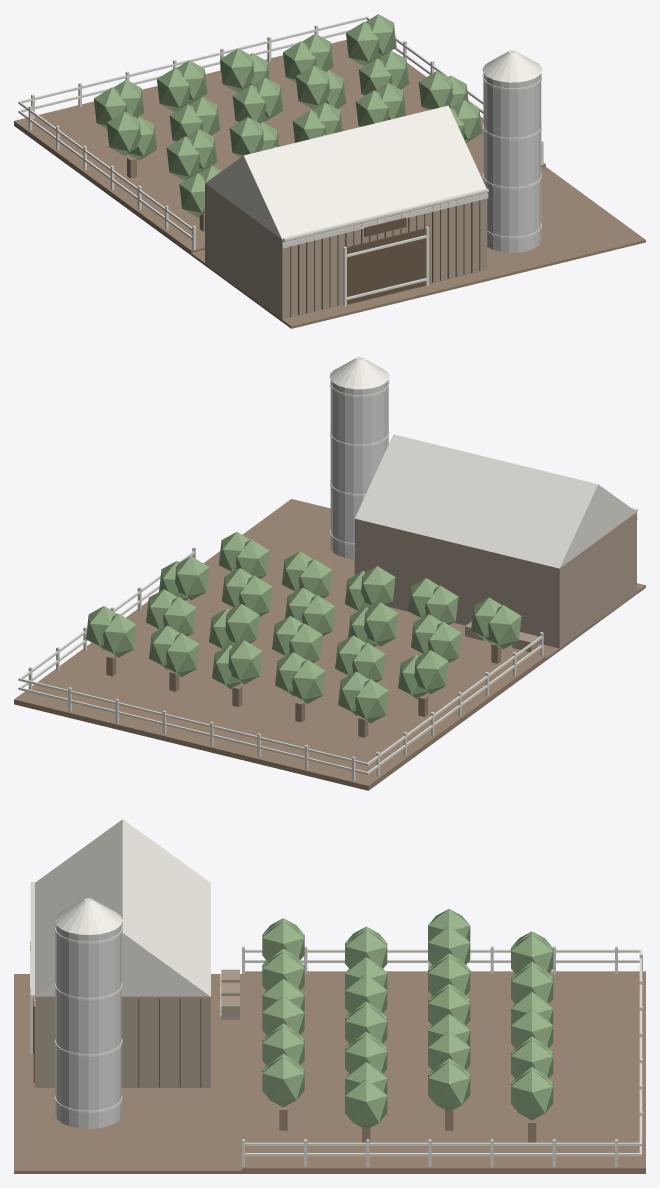
File: farm_3x4.glb
3 views of the same model, one above another, from view 1: azimuth 30°, elevation 25°; view 2: azimuth 150°, elevation 25°; view 3: azimuth 270°, elevation 25° (orthographic). The views are drawn at different scales.
Parts seen in each view (by area): view 1: farm_3x4_yard; view 2: farm_3x4_yard; view 3: farm_3x4_yard.
Boxes of the visible parts, x1=… form: farm_3x4_yard: x1=14, y1=14, x2=645, y2=328; farm_3x4_yard: x1=14, y1=357, x2=645, y2=790; farm_3x4_yard: x1=14, y1=819, x2=645, y2=1173.
Bounding box in the file's own units: 22.5 × 11.6 × 30.5.
